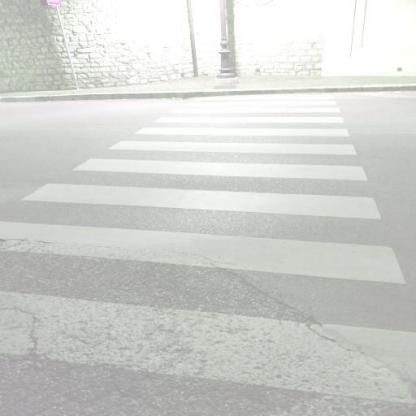crosswalk: (0, 155, 388, 226), (151, 106, 351, 126)
